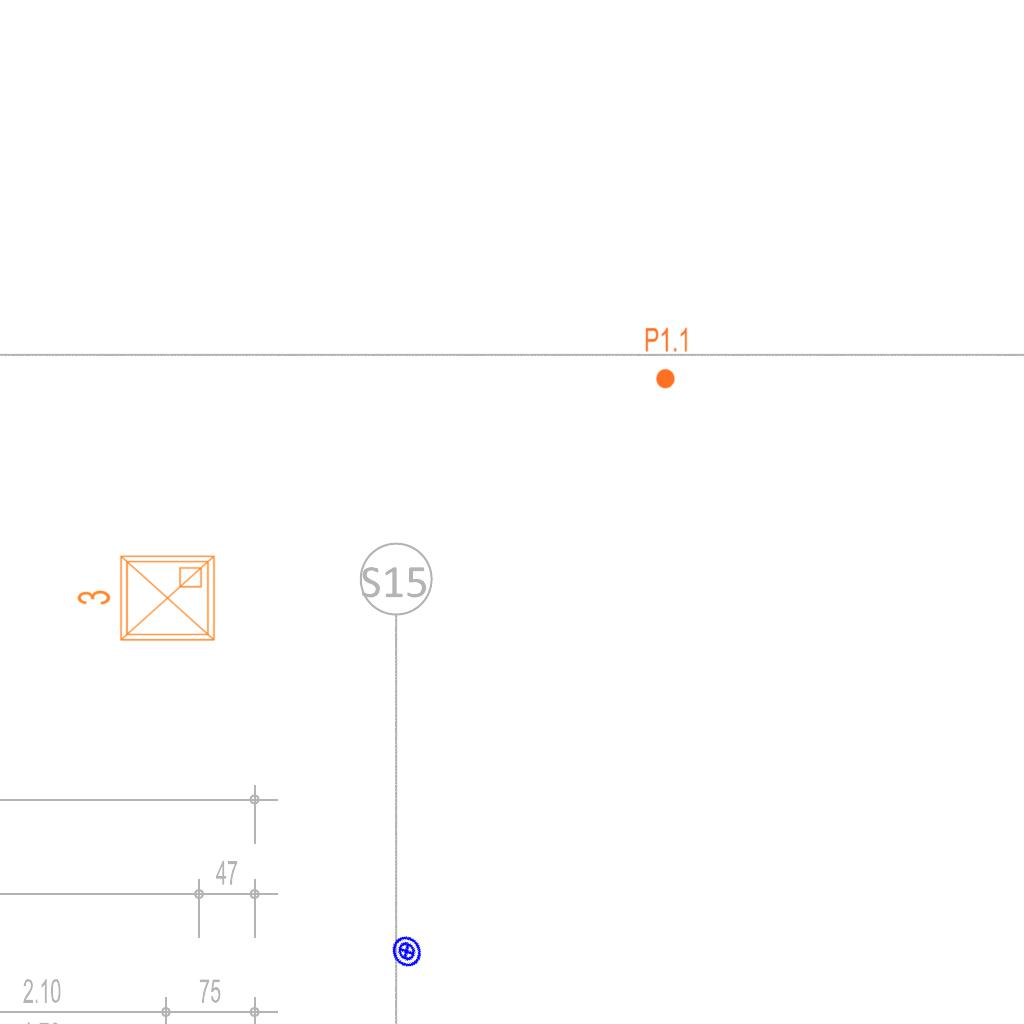Downlight_LED_Einbauleuchten_Flur: (644, 326, 690, 390)
Einbaudownlights_LED_Konferenzraeume: (72, 548, 222, 652)
Taster_beleuchtet: (384, 929, 429, 974)
